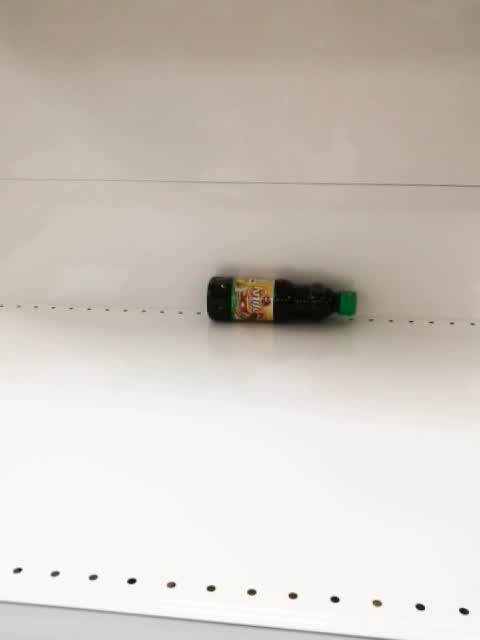cookingoil: (204, 271, 358, 330)
